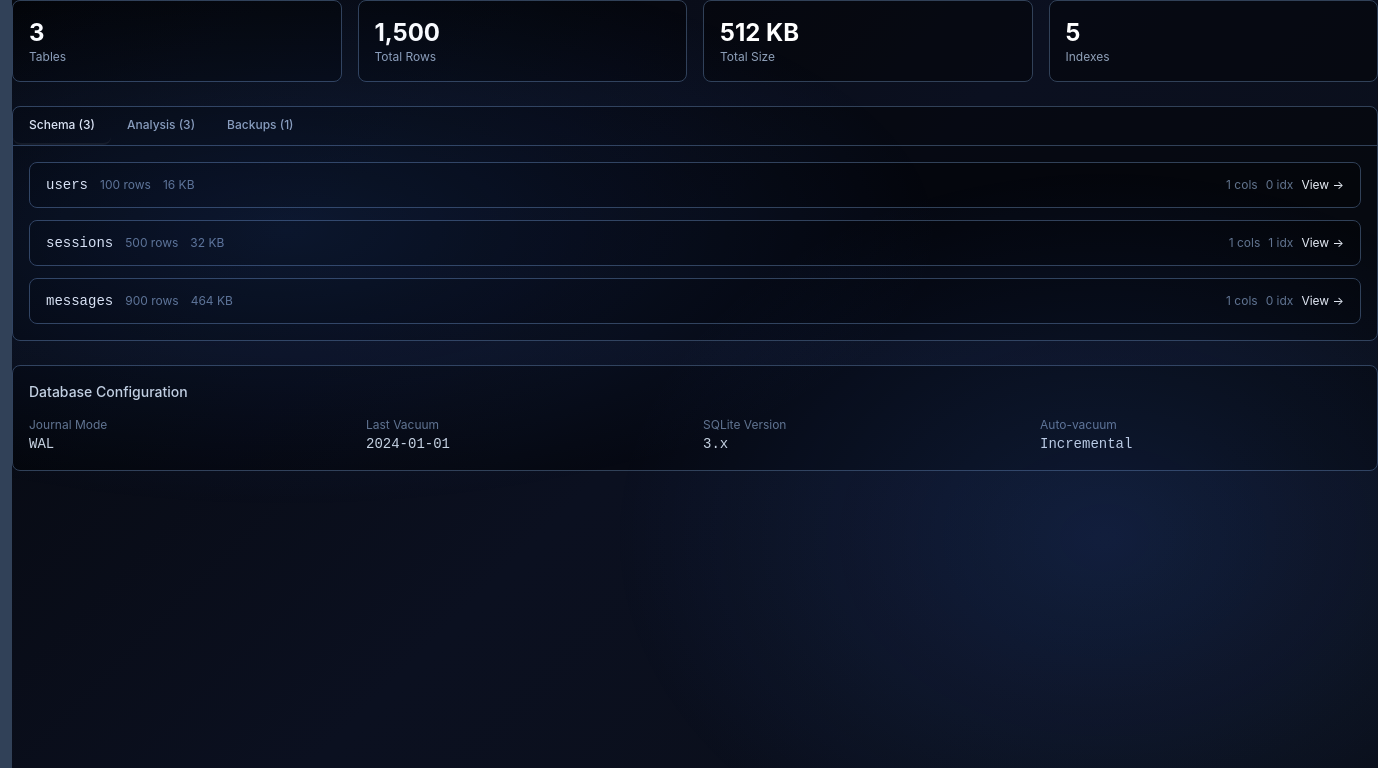
Test case: DatabasePanel › renders data quality issues with severity colors
Click the button "Analysis (3)": coordinates (161, 126) [111,107,211,145]
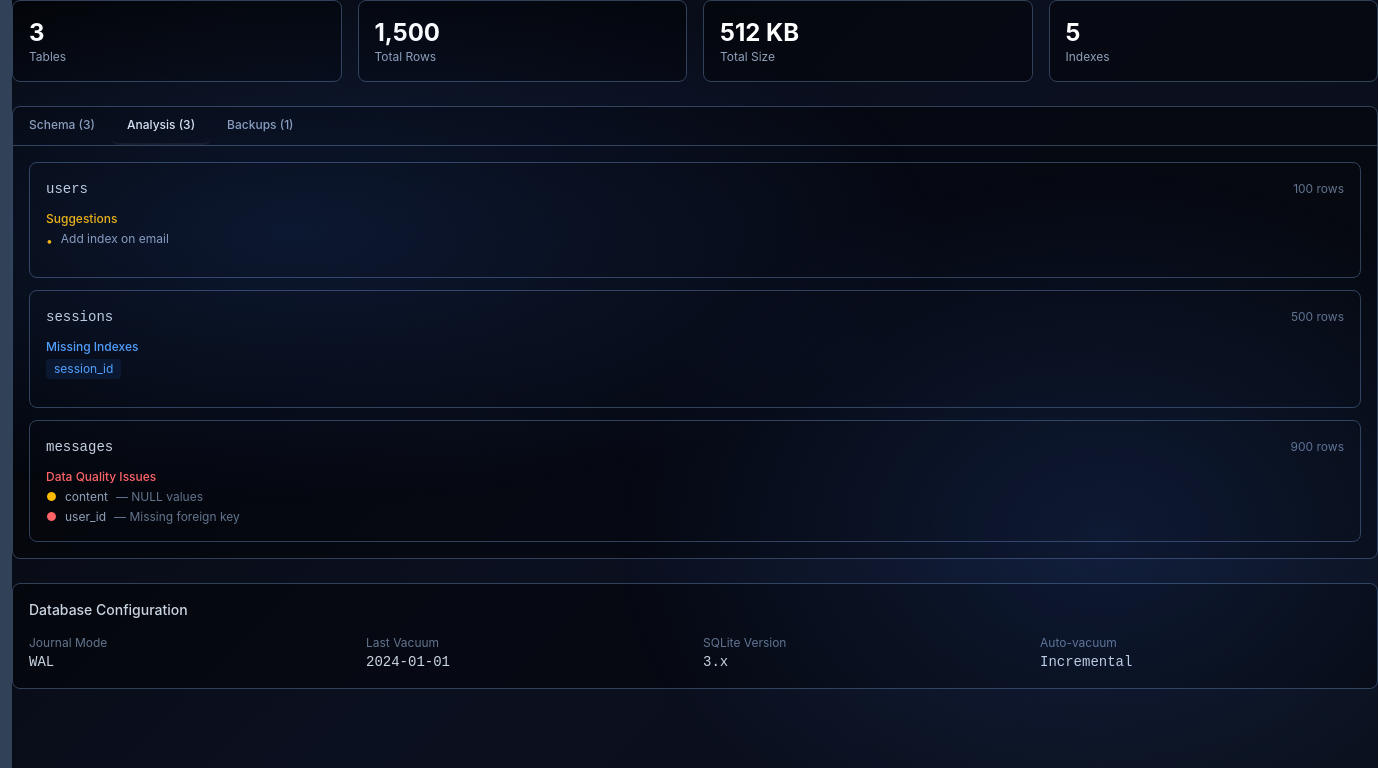
Expected: the heading "Data Quality Issues" is shown, [46,469,156,484]
